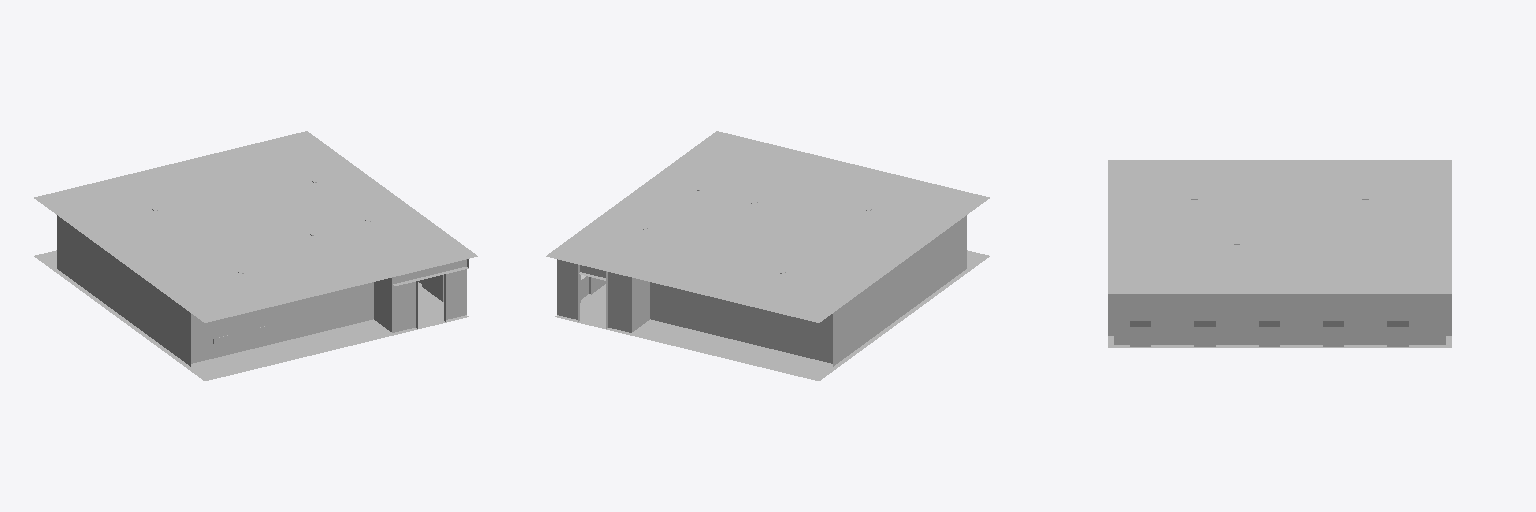
Rendered from RZ_room2_toilets.obj.
3 renders of one model, left to right at view 1: azimuth 30°, elevation 25°; view 2: azimuth 150°, elevation 25°; view 3: azimuth 270°, elevation 25°, orthographic.
Visible parts, largest first — view 1: room2toilets; view 2: room2toilets; view 3: room2toilets.
Part boxes in pixels (x1,y1,x2,y2): room2toilets: (34,131,477,380); room2toilets: (546,131,989,380); room2toilets: (1108,160,1451,347).
Size of the model in its own units: 18.88 by 3.87 by 20.48.